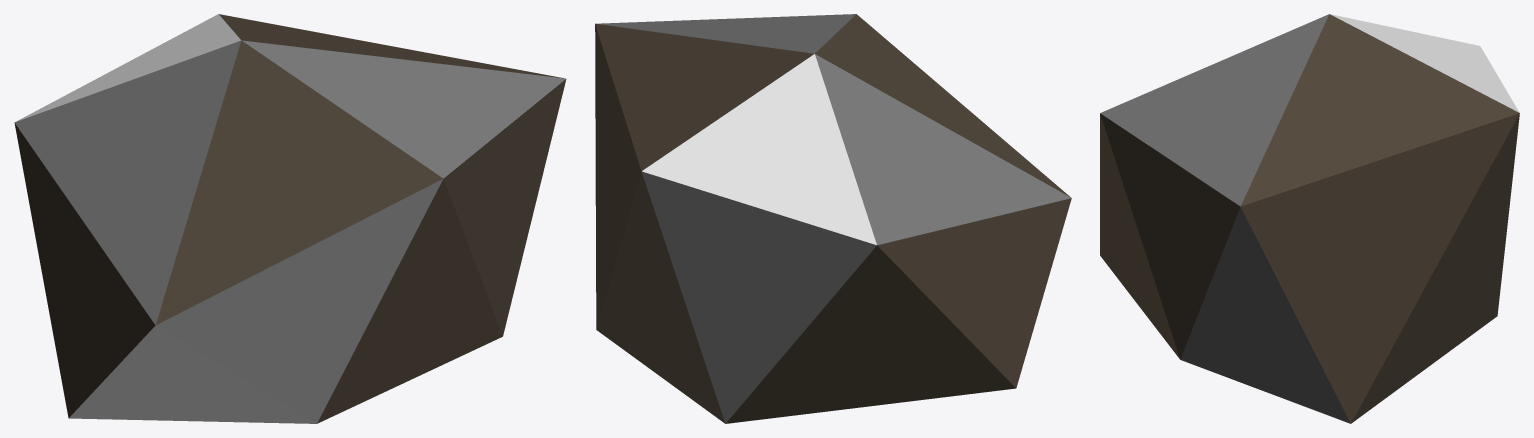
File: rock 1.fbx
The picture shows the model from 3 angles, left to right: view 1: azimuth 30°, elevation 25°; view 2: azimuth 150°, elevation 25°; view 3: azimuth 270°, elevation 25°; orthographic projection. The views are drawn at different scales.
Parts seen in each view (by area): view 1: rock 1; view 2: rock 1; view 3: rock 1.
Boxes of the visible parts, bbox=[...] form: rock 1: bbox=[14, 14, 566, 423]; rock 1: bbox=[595, 14, 1071, 423]; rock 1: bbox=[1100, 14, 1519, 423].
Bounding box in the file's own units: 437 × 297 × 363.
